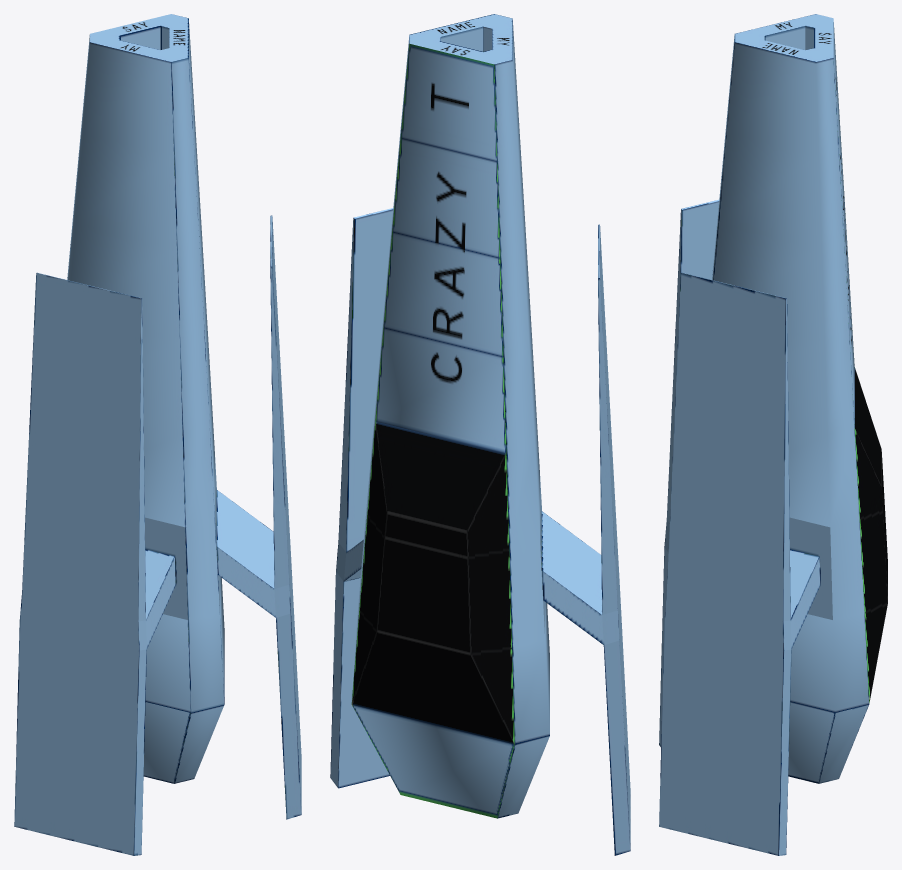
File: ship2_CrazyT.FBX
The picture shows the model from 3 angles, left to right: view 1: azimuth 30°, elevation 25°; view 2: azimuth 150°, elevation 25°; view 3: azimuth 270°, elevation 25°; orthographic projection. The views are drawn at different scales.
Parts seen in each view (by area): view 1: ship2_CrazyT; view 2: ship2_CrazyT; view 3: ship2_CrazyT.
Part boxes in pixels (x1=…): ship2_CrazyT: x1=14, y1=14, x2=301, y2=855; ship2_CrazyT: x1=330, y1=14, x2=630, y2=855; ship2_CrazyT: x1=659, y1=14, x2=887, y2=855.
Bounding box in the file's own units: 85.72 × 215 × 59.13.
Materials: 1 (1 with a texture image).
